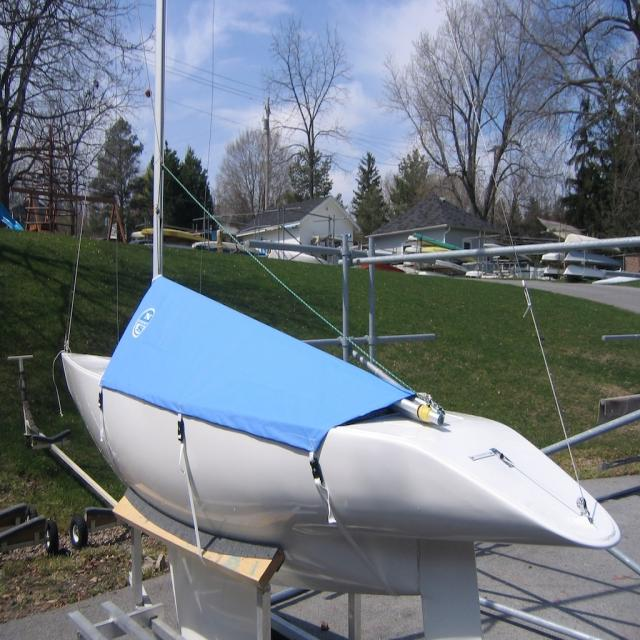Boat: (89, 264, 587, 599)
